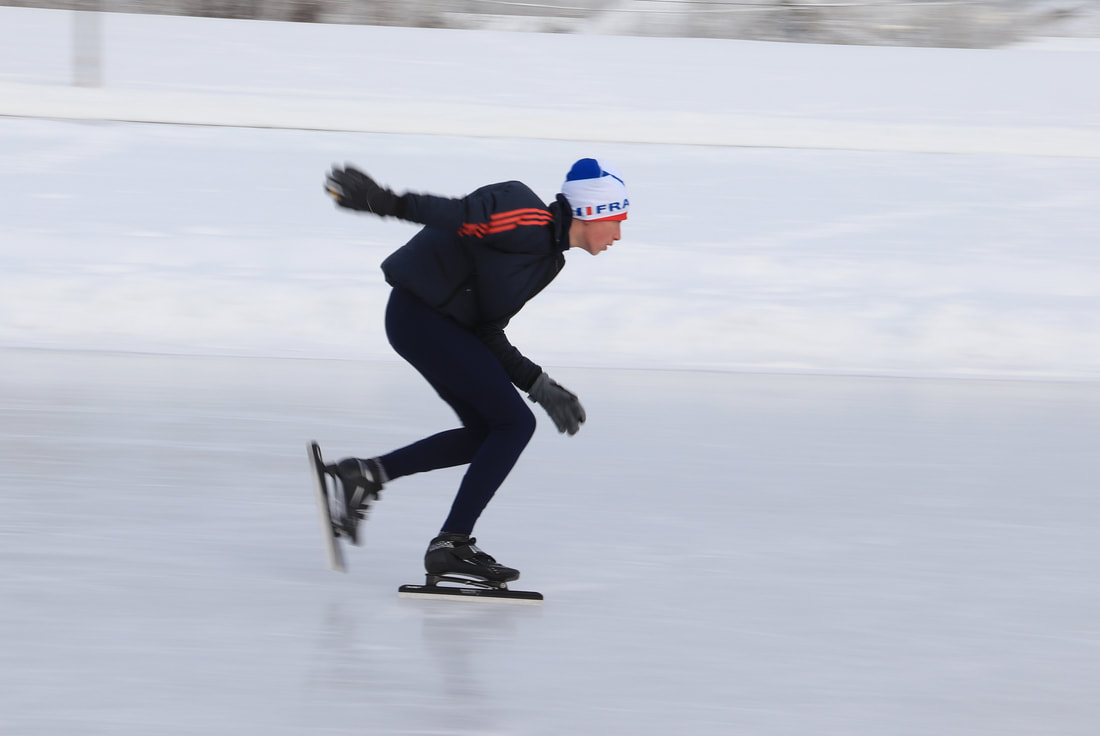Person: (314, 154, 640, 585)
